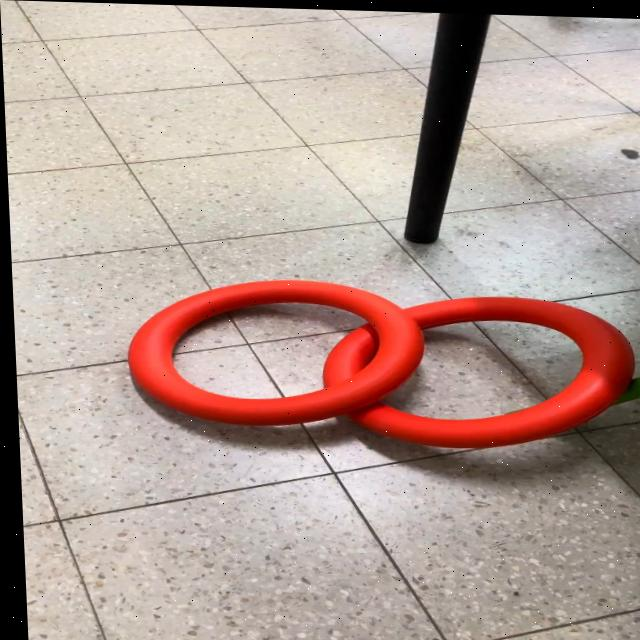note: (311, 286, 637, 451), (119, 273, 430, 428)
